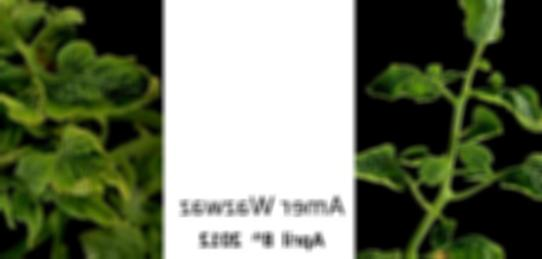Tomato leaf yellow virus: (21, 129, 136, 206), (39, 43, 154, 119), (360, 57, 449, 103), (477, 81, 542, 134), (458, 0, 507, 55)
